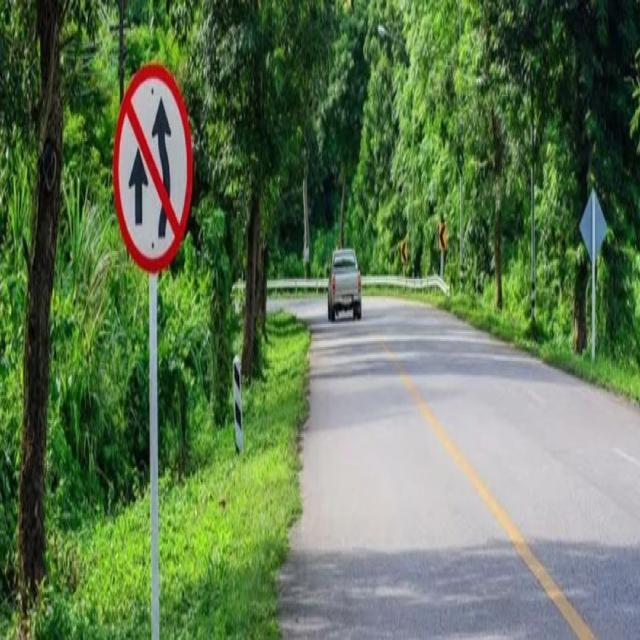overtaking prohibited: (111, 60, 196, 274)
